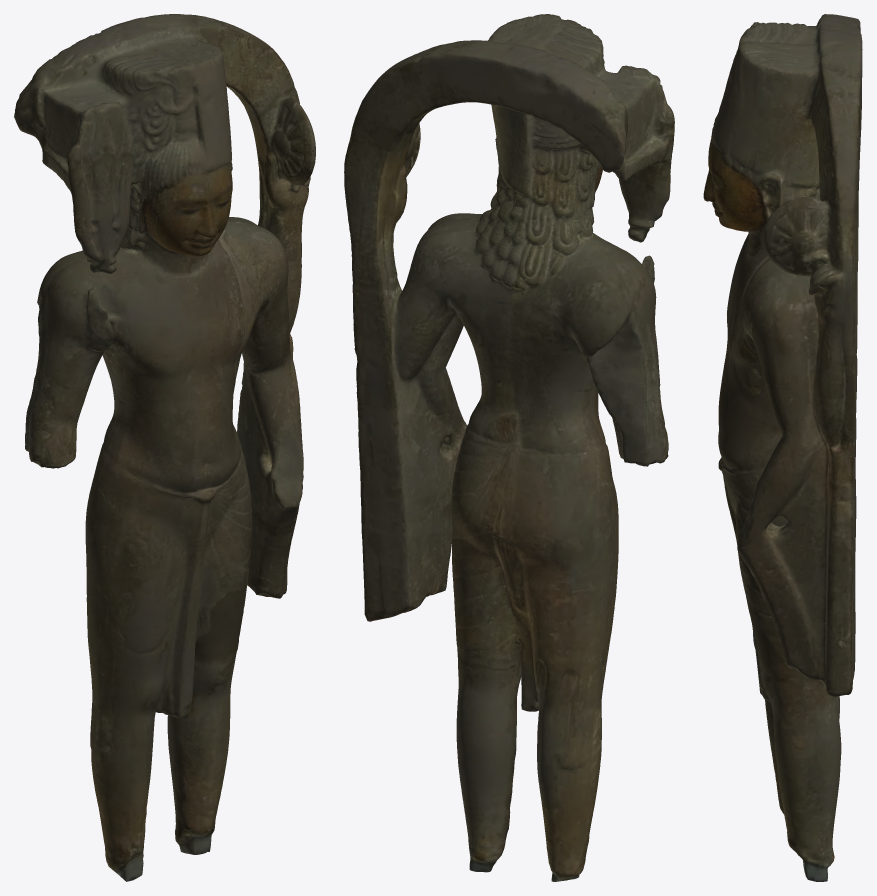
The model's file is preview.glb.
The picture shows the model from 3 angles, left to right: view 1: azimuth 30°, elevation 25°; view 2: azimuth 150°, elevation 25°; view 3: azimuth 270°, elevation 25°; orthographic projection. The views are drawn at different scales.
Visible parts, largest first — view 1: Paris_Harihara_Paris_Harihara_Mat_0; view 2: Paris_Harihara_Paris_Harihara_Mat_0; view 3: Paris_Harihara_Paris_Harihara_Mat_0.
Boxes of the visible parts, left/top/right/bottom form: Paris_Harihara_Paris_Harihara_Mat_0: left=14, top=14, right=315, bottom=881; Paris_Harihara_Paris_Harihara_Mat_0: left=344, top=14, right=674, bottom=881; Paris_Harihara_Paris_Harihara_Mat_0: left=703, top=14, right=862, bottom=881.
Size of the model in its own units: 0.6614 by 1.76 by 0.3098.
Materials: 1 (1 with a texture image).
